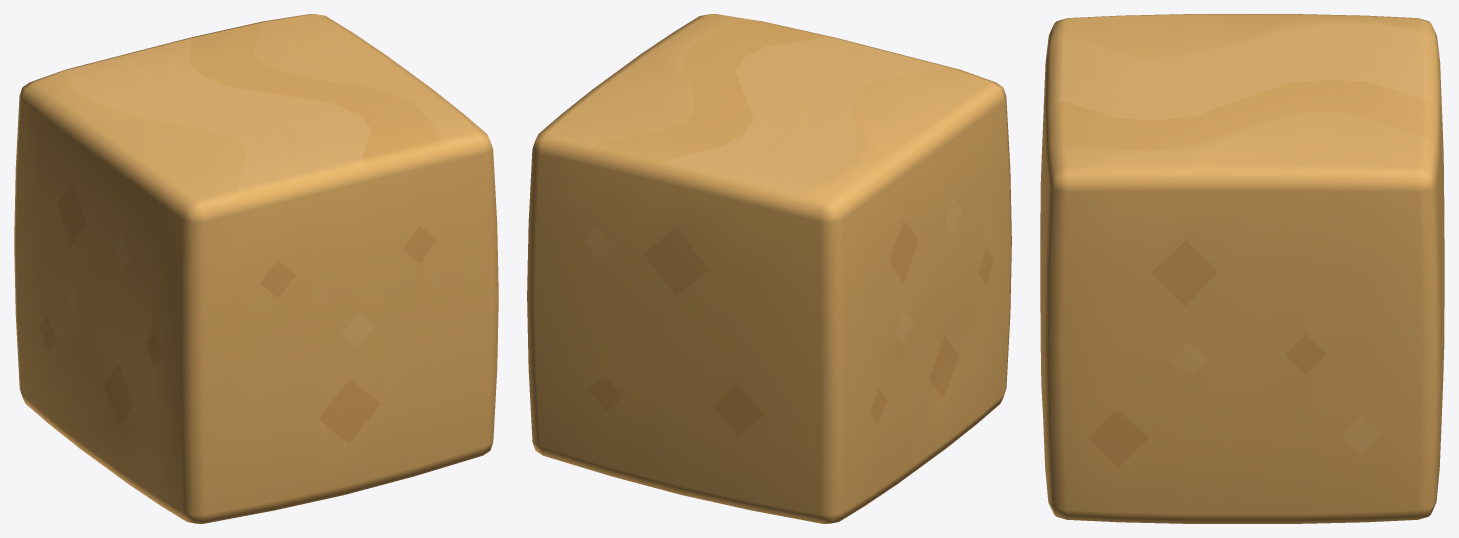
File: block_sand_3.fbx
The picture shows the model from 3 angles, left to right: view 1: azimuth 30°, elevation 25°; view 2: azimuth 150°, elevation 25°; view 3: azimuth 270°, elevation 25°; orthographic projection. The views are drawn at different scales.
Parts seen in each view (by area): view 1: block_sand1_3_LOD0; view 2: block_sand1_3_LOD0; view 3: block_sand1_3_LOD0.
Part boxes in pixels (bbox=[...]): block_sand1_3_LOD0: bbox=[14, 14, 498, 523]; block_sand1_3_LOD0: bbox=[527, 14, 1011, 523]; block_sand1_3_LOD0: bbox=[1040, 14, 1444, 523].
Size of what is drawn, in the model's own units: 108 by 108 by 109.
